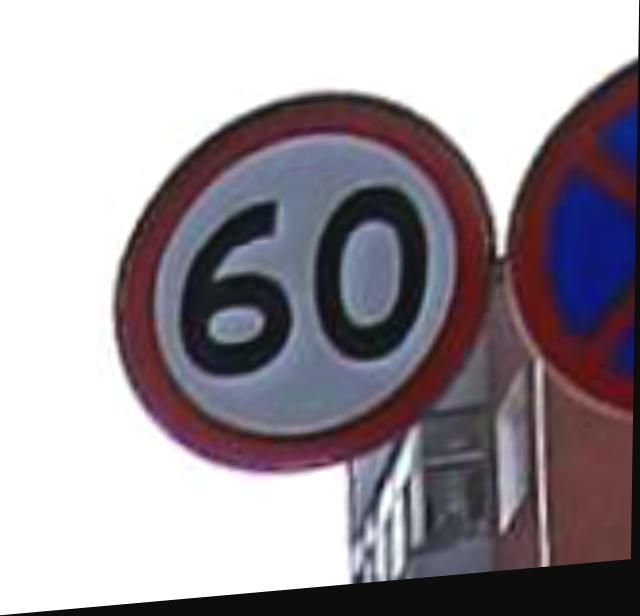limit60: (50, 67, 520, 519)
